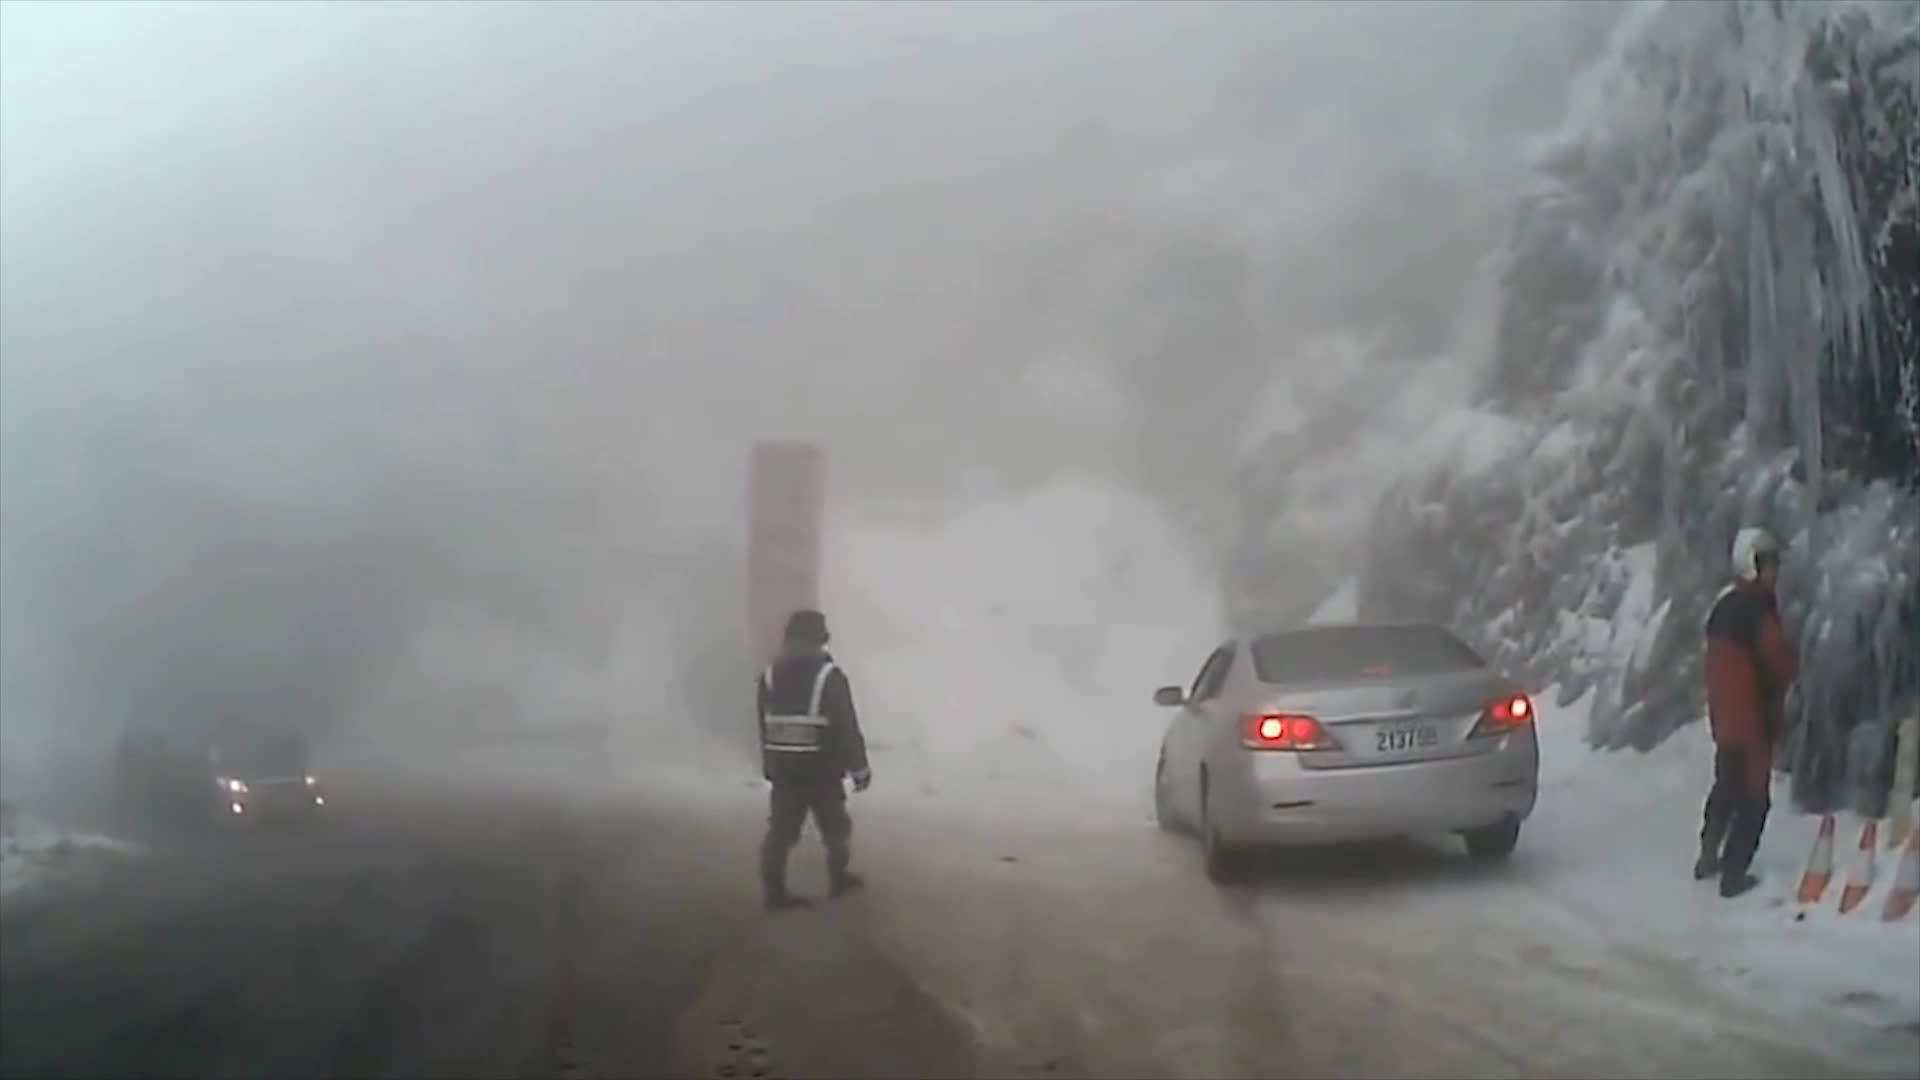pedestrian: (1689, 527, 1809, 901), (756, 614, 872, 916)
vehicle: (1148, 619, 1538, 886)
